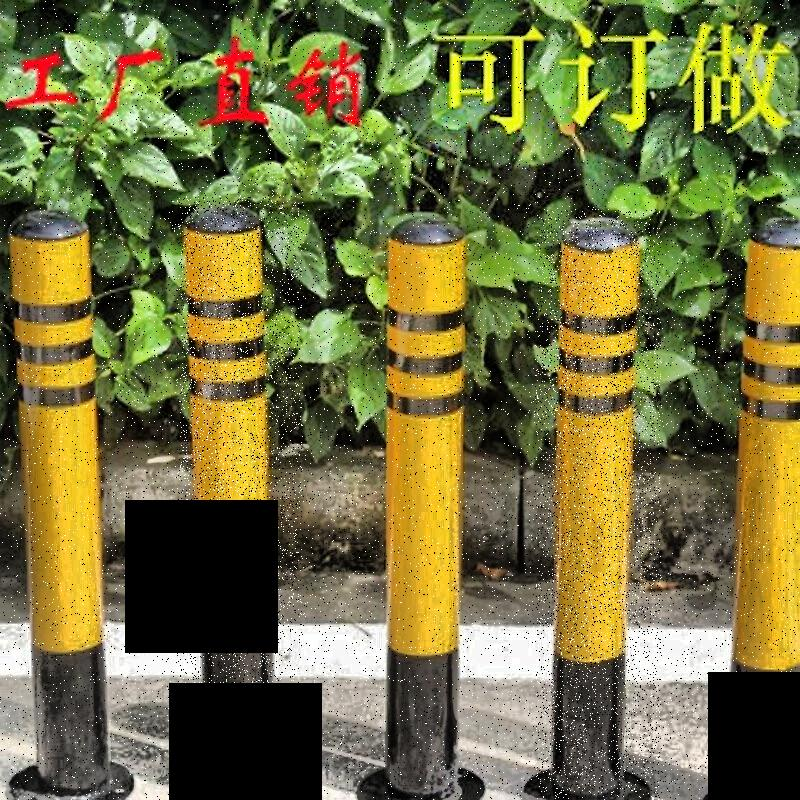bench: (177, 196, 303, 799), (536, 209, 662, 799)
